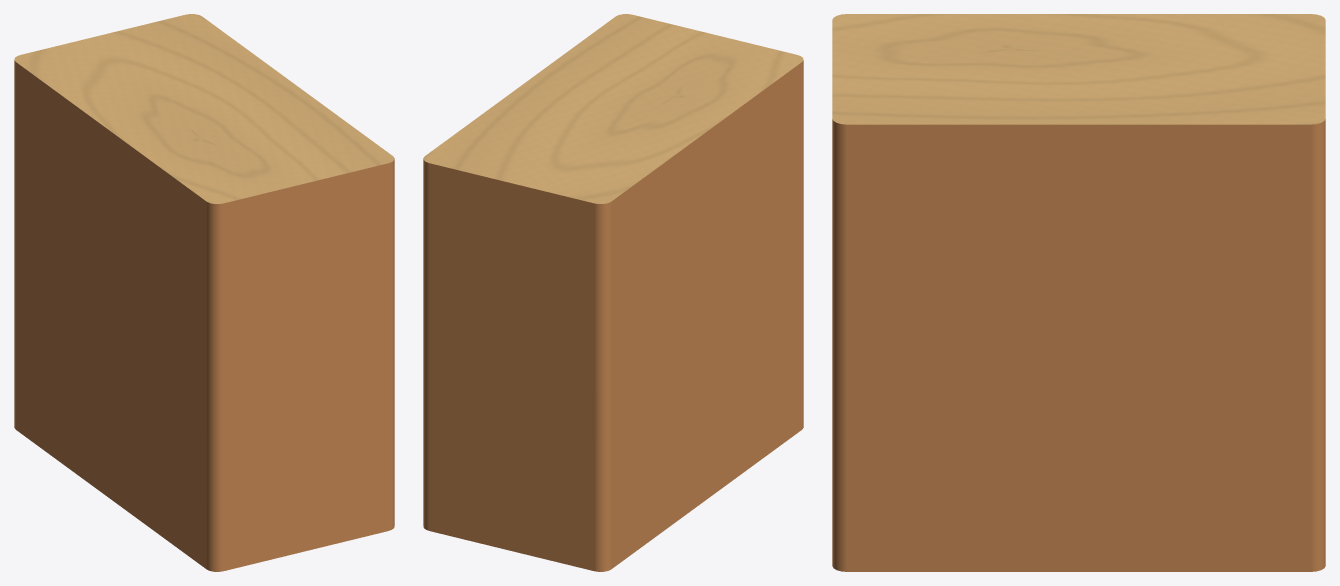
Rendered from play-orange-block-orange.glb.
3 renders of one model, left to right at view 1: azimuth 30°, elevation 25°; view 2: azimuth 150°, elevation 25°; view 3: azimuth 270°, elevation 25°, orthographic. The views are drawn at different scales.
Parts seen in each view (by area): view 1: Block_Painted_Body, Block_Paint_Front, Block_Wood_Bottom; view 2: Block_Painted_Body, Block_Paint_Back, Block_Wood_Bottom; view 3: Block_Paint_Left, Block_Wood_Bottom, Block_Paint_Front, Block_Paint_Back.
Part boxes in pixels (x1,y1,x2,y2): Block_Painted_Body: [14, 60, 213, 571]; Block_Paint_Front: [214, 160, 394, 571]; Block_Wood_Bottom: [14, 14, 394, 203]; Block_Painted_Body: [604, 60, 803, 571]; Block_Paint_Back: [423, 160, 603, 571]; Block_Wood_Bottom: [423, 14, 803, 203]; Block_Paint_Left: [836, 123, 1321, 571]; Block_Wood_Bottom: [832, 14, 1325, 124]; Block_Paint_Front: [832, 119, 836, 569]; Block_Paint_Back: [1321, 119, 1325, 569].
Size of the model in its own units: 0.07 by 0.132 by 0.132.
2 materials, 1 textured.
